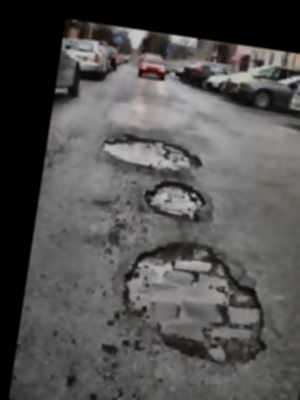pothole: (109, 228, 288, 378), (98, 129, 209, 176), (140, 178, 211, 224)
